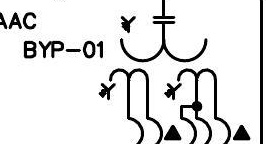115_cvt_3p: (98, 16, 218, 101)
